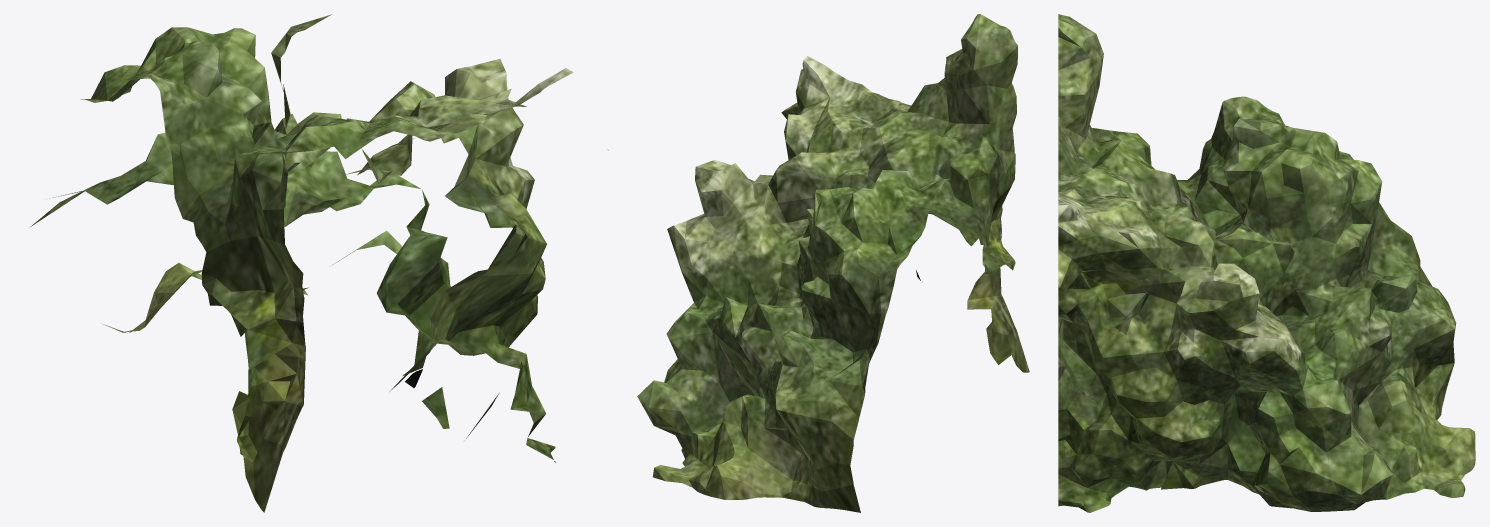
The picture shows the model from 3 angles, left to right: view 1: azimuth 30°, elevation 25°; view 2: azimuth 150°, elevation 25°; view 3: azimuth 270°, elevation 25°; orthographic projection. The views are drawn at different scales.
Bounding box in the file's own units: 3.8 × 4.98 × 4.72.
Materials: 3 (3 with a texture image).
